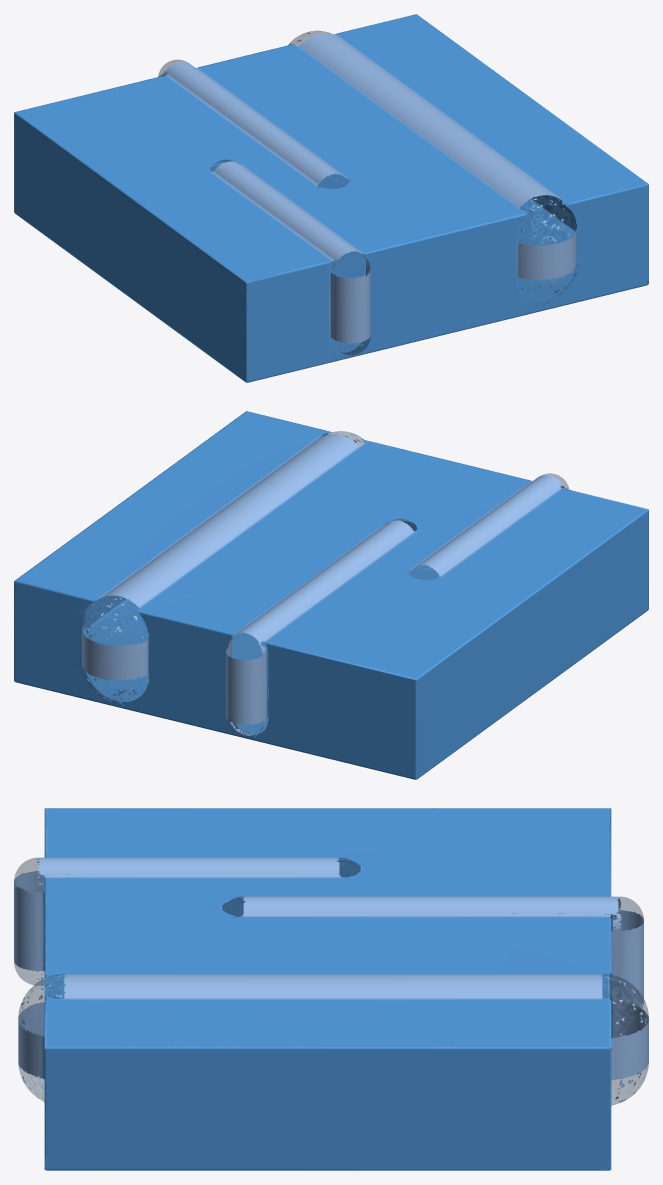
Rendered from river-1.glb.
3 renders of one model, top to bottom at view 1: azimuth 30°, elevation 25°; view 2: azimuth 150°, elevation 25°; view 3: azimuth 270°, elevation 25°, orthographic. The views are drawn at different scales.
Parts seen in each view (by area): view 1: Area (2); view 2: Area (2); view 3: Area (2).
Part boxes in pixels (<box>): Area (2): <box>14,14,648,382</box>; Area (2): <box>14,411,648,779</box>; Area (2): <box>14,808,648,1170</box>.
Size of the model in its own units: 2.08 by 0.5364 by 2.33.
Materials: 1 (1 with a texture image).
